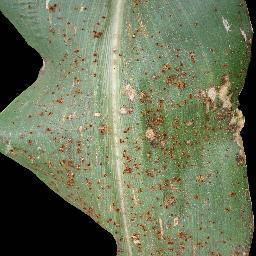Corn_Common_Rust: (113, 0, 256, 255), (0, 0, 112, 167), (33, 167, 113, 240)
